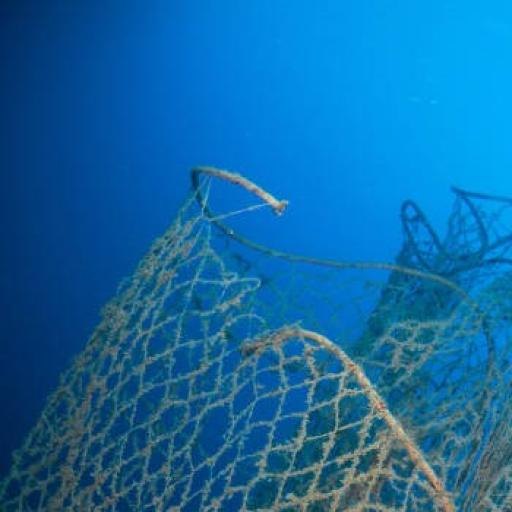net: (2, 144, 512, 512)
